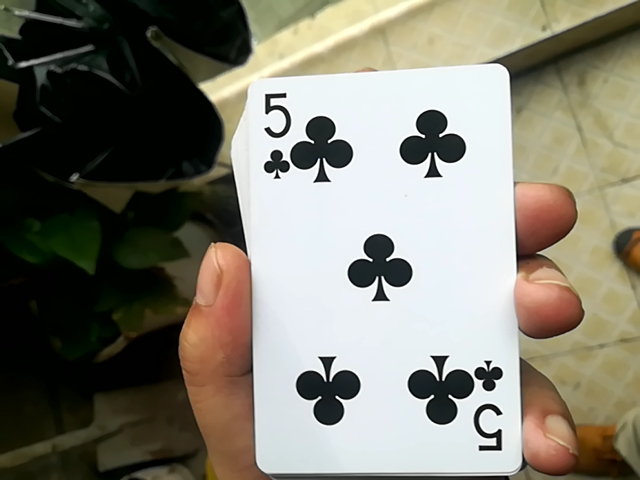mh 5: (216, 63, 534, 474)
